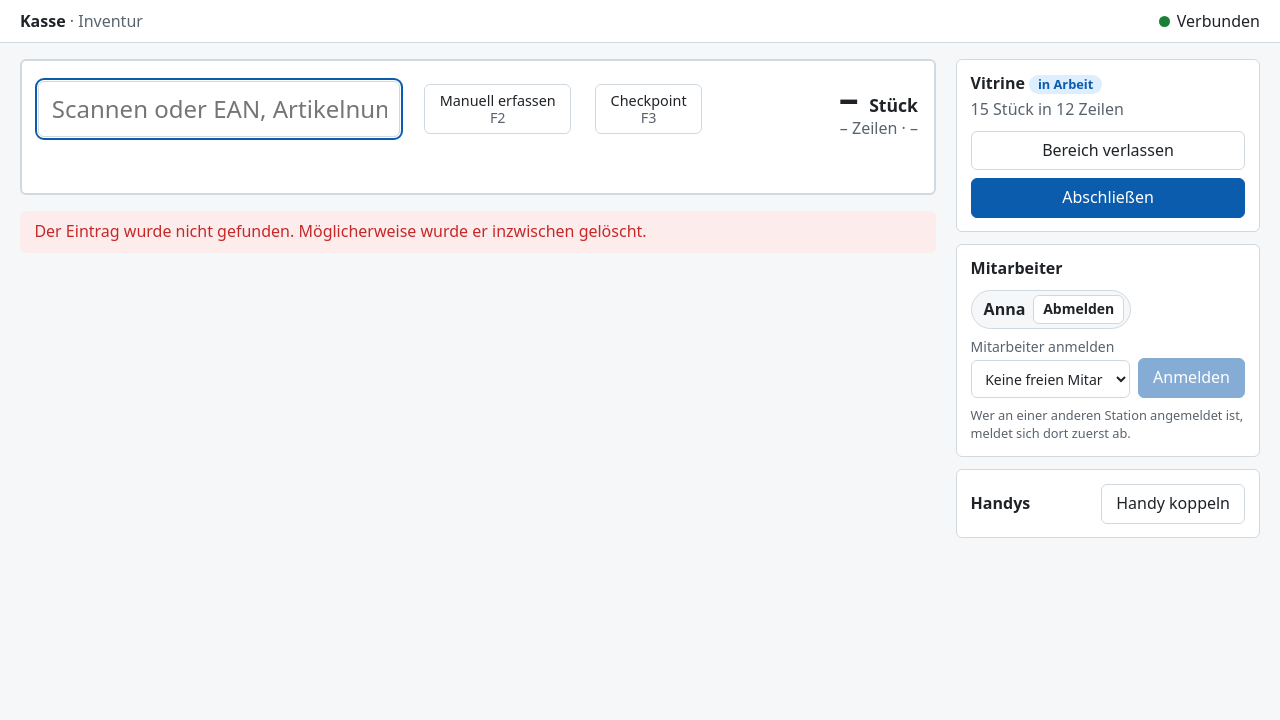
work area selection at the workstation › closes the work area after a safety question showing the quantity
The image size is (1280, 720).
Click the button "Abschließen" at (1108, 198), box [971, 178, 1245, 218]
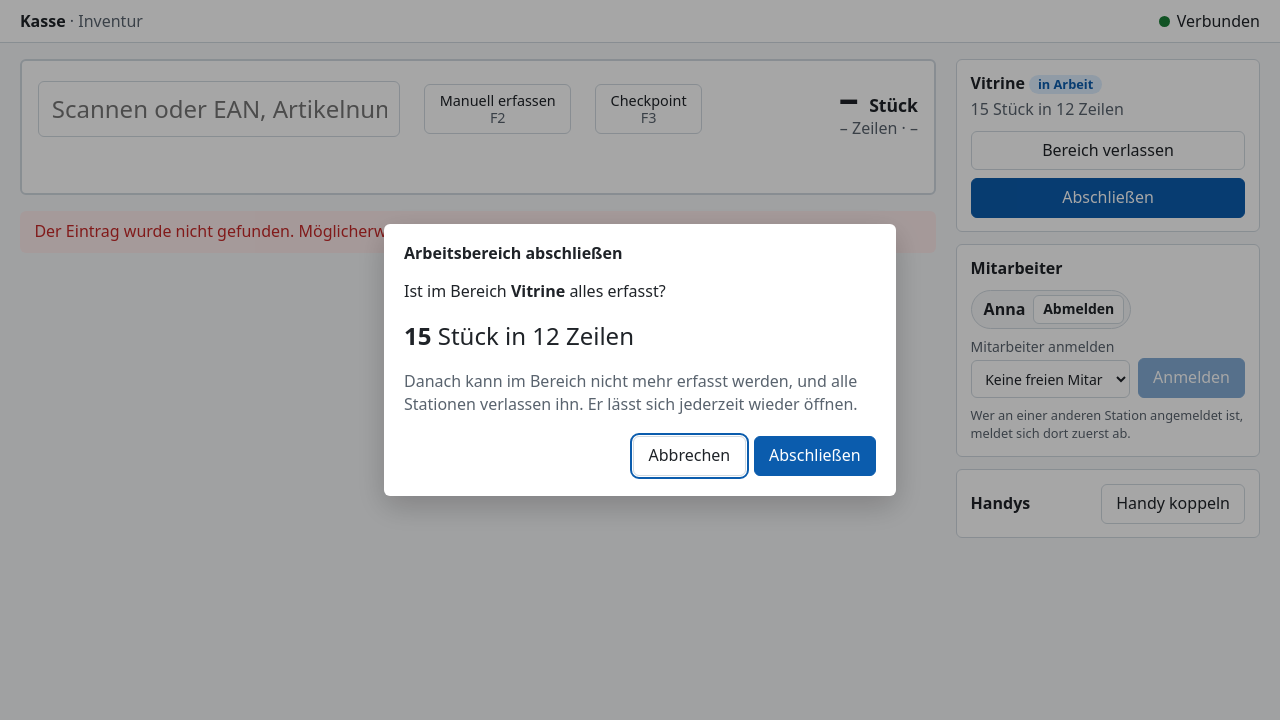
Expected: the dialog "Arbeitsbereich abschließen" shows "15 Stück in 12 Zeilen", [384, 224, 896, 496]
Click the button "Abschließen" at (815, 456), box [754, 436, 876, 476]
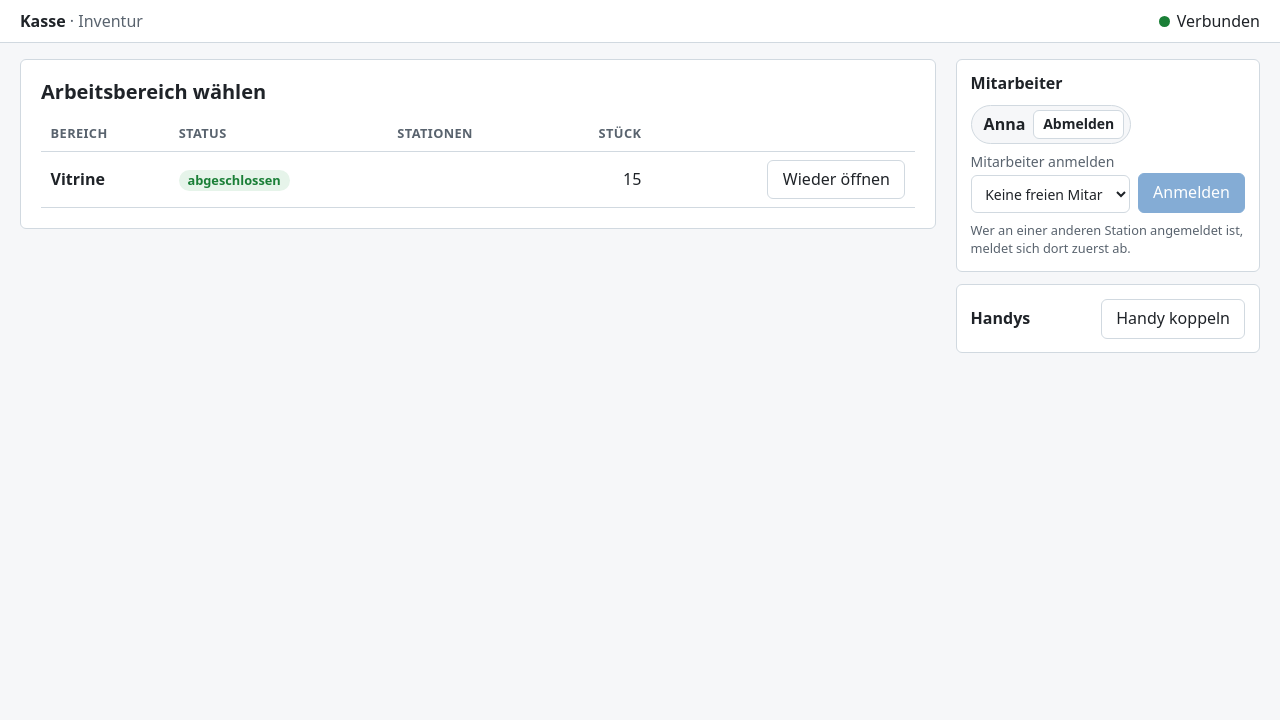
Expected: the heading "Arbeitsbereich wählen" is shown, [41, 78, 266, 105]
Expected: the dialog is gone
Expected: the text "abgeschlossen" is shown, [179, 170, 290, 191]
